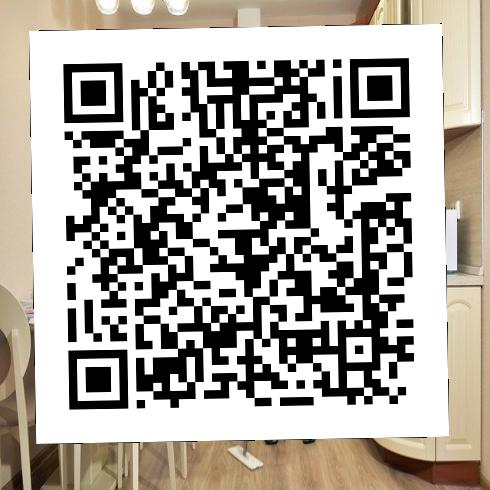qr_code: (29, 23, 448, 443)
